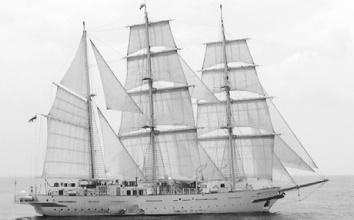fanchuan: (13, 6, 324, 218)
